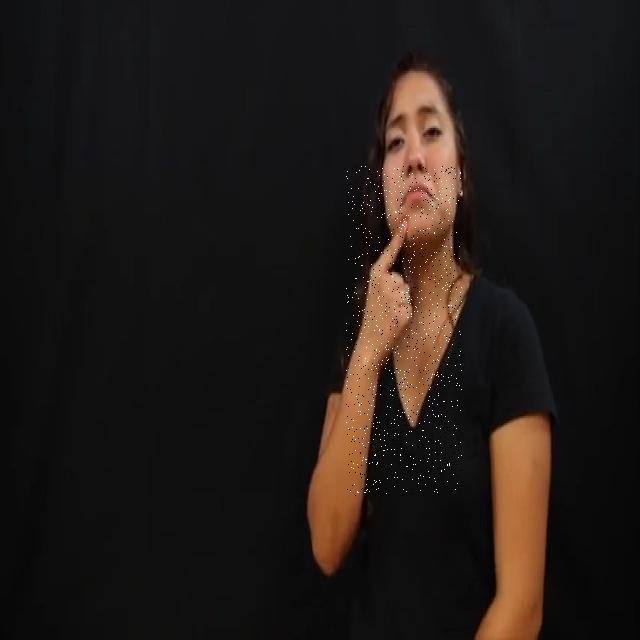bitter: (346, 166, 462, 496)
